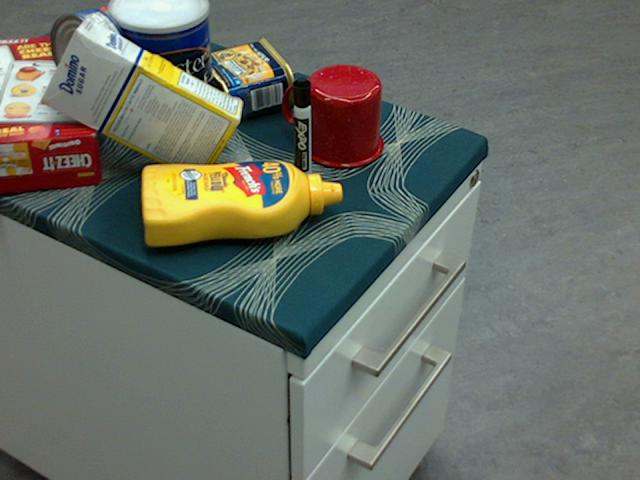cracker_box: (0, 37, 102, 192)
gelatin_box: (61, 4, 153, 63)
large_marker: (292, 76, 312, 184)
master_chef_can: (109, 0, 213, 143)
mug: (283, 64, 382, 168)
mustard_bottle: (141, 159, 342, 246)
potted_meat_can: (196, 37, 295, 121)
sugar_box: (42, 18, 245, 180)
tomato_soup_can: (110, 3, 202, 90)
tuna_fish_can: (50, 9, 130, 97)
